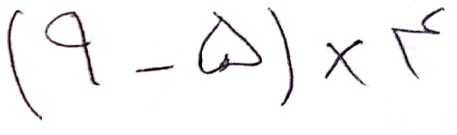character: (4, 9, 55, 127), (198, 9, 264, 76), (44, 9, 100, 87), (390, 6, 445, 82), (266, 7, 296, 108), (323, 37, 368, 87), (133, 62, 173, 78)
